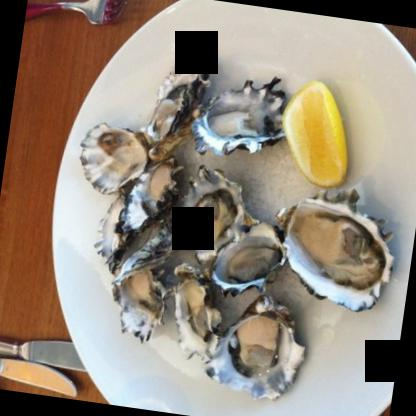oyster: (272, 189, 404, 312), (203, 291, 317, 406), (134, 47, 216, 163), (195, 80, 292, 160), (171, 163, 252, 258), (208, 209, 292, 300), (112, 219, 174, 340), (74, 121, 146, 201)
